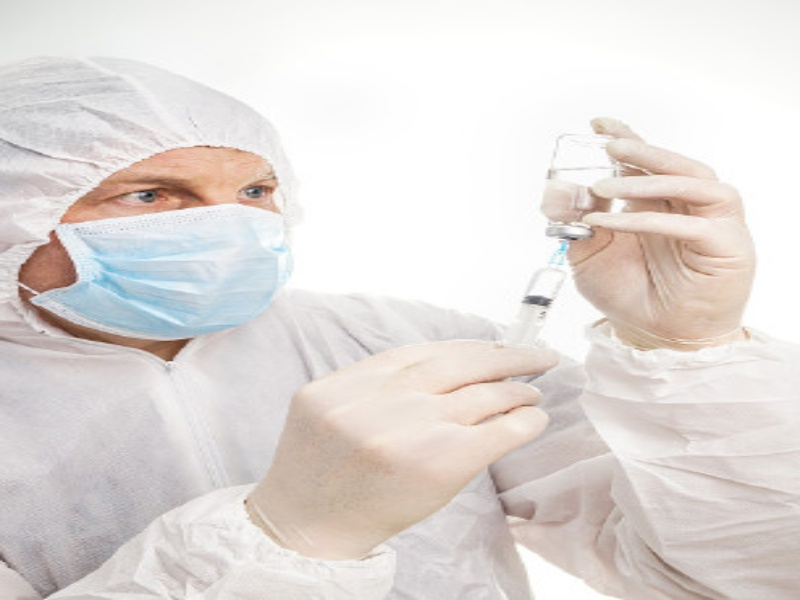mask: (1, 52, 306, 358)
